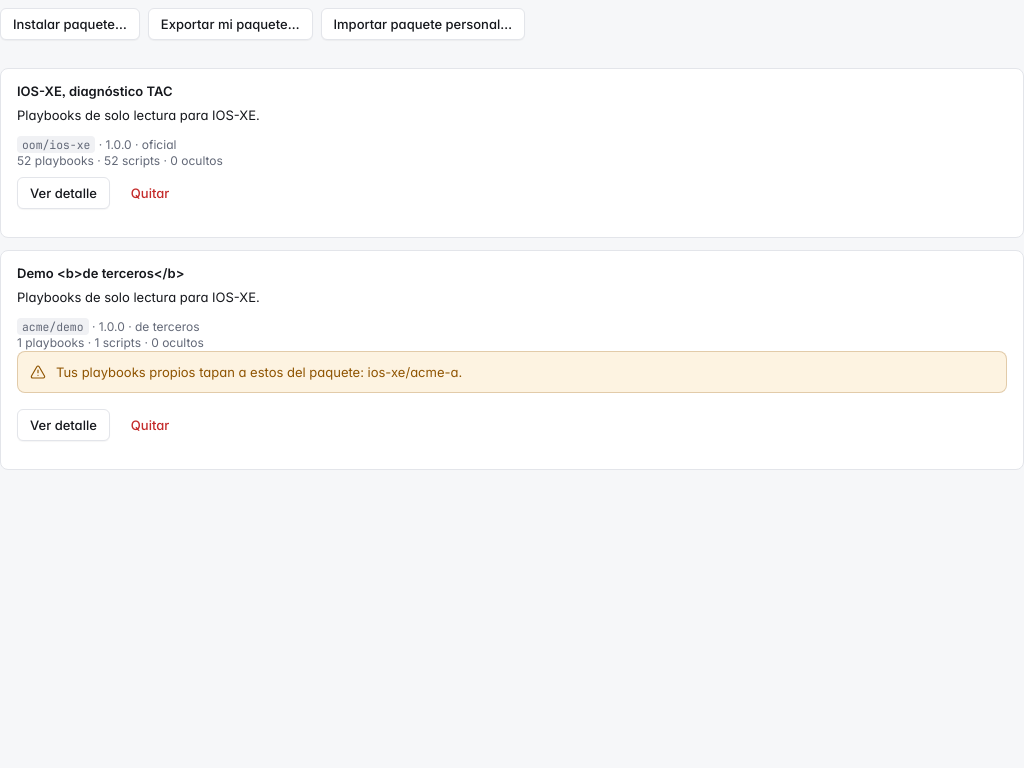
Scenario: ocultar un playbook manda solo ese ID en hide y refresca con la respuesta
What coordinates should you click on to do the following:
click the button "Ver detalle" below "IOS-XE, diagnóstico TAC"
I would click on:
 (63, 193)
Its box is [17,177,110,209].
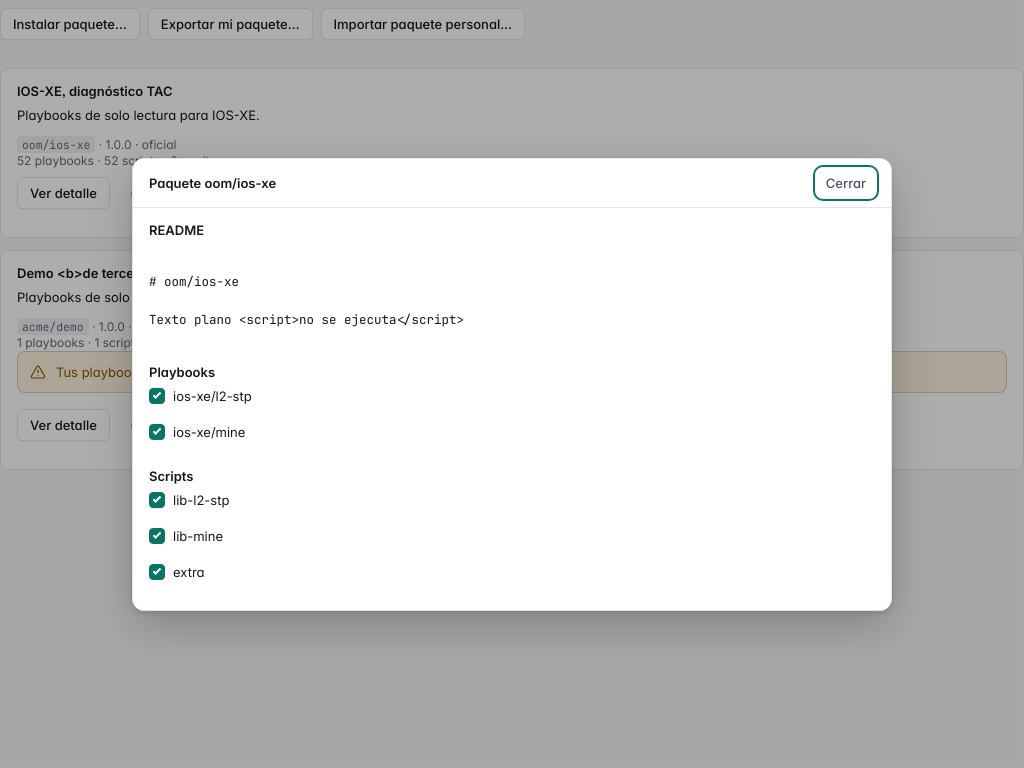
What coordinates should you click on to do the following:
click the checkbox labelled "ios-xe/mine"
I would click on:
 (157, 432)
Its box is [149,424,165,440].
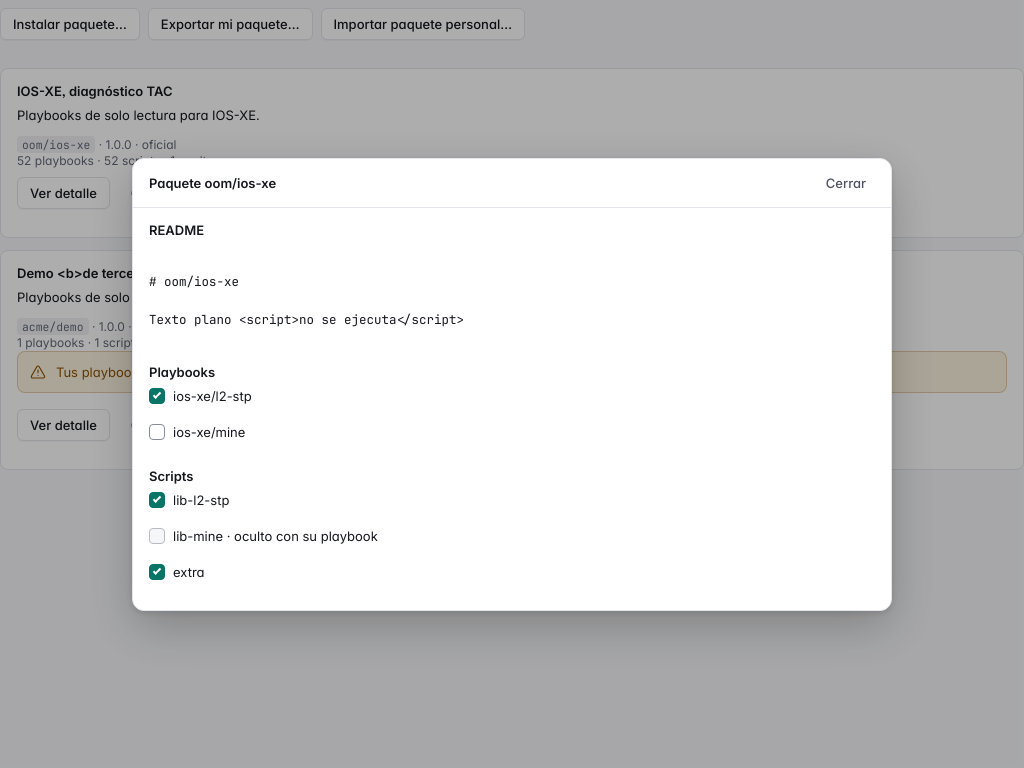
Expected: the checkbox labelled "ios-xe/mine" is not checked, [149,424,165,440]
Expected: the checkbox labelled "lib-mine · oculto con su playbook" is not checked, [149,528,165,544]
Expected: the checkbox labelled "lib-mine · oculto con su playbook" is disabled, [149,528,165,544]
